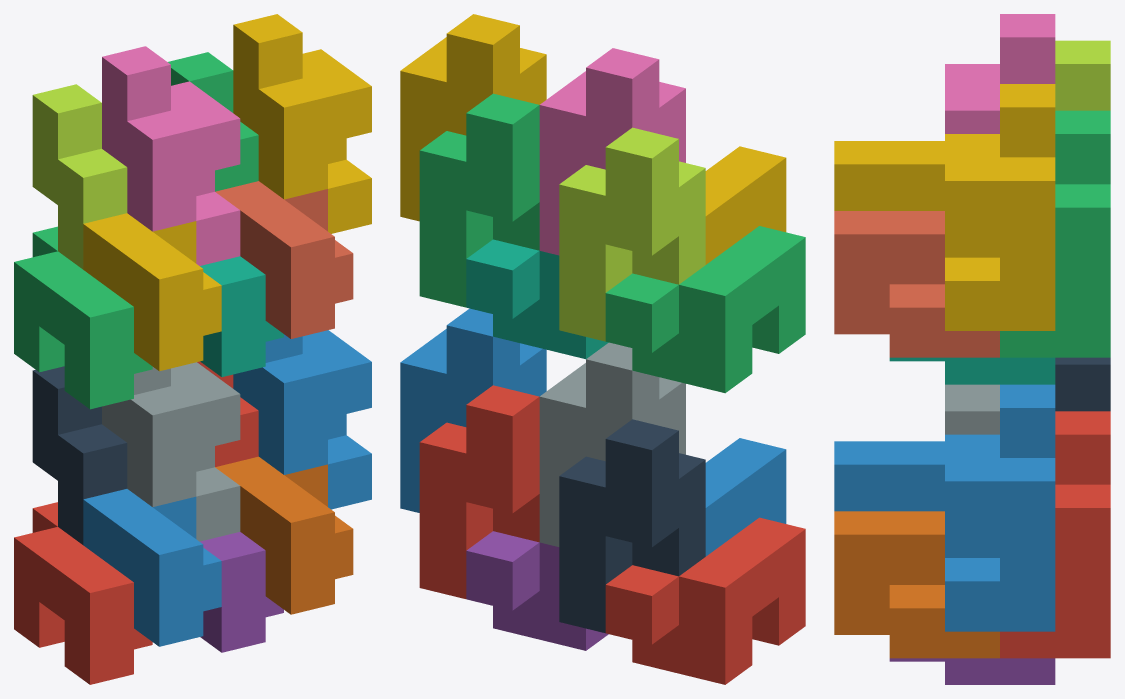
File: tiling.obj
The picture shows the model from 3 angles, left to right: view 1: azimuth 30°, elevation 25°; view 2: azimuth 150°, elevation 25°; view 3: azimuth 270°, elevation 25°; orthographic projection. The views are drawn at different scales.
Visible parts, largest first — view 1: copy_2_domain_8, copy_2_domain_4, copy_2_domain_2, copy_2_domain_6, copy_1_domain_1, copy_1_domain_3, copy_1_domain_2, copy_1_domain_4, copy_1_domain_6, copy_1_domain_8, copy_2_domain_3, copy_2_domain_1 (+4 smaller); view 2: copy_1_domain_1, copy_1_domain_3, copy_2_domain_3, copy_2_domain_1, copy_2_domain_5, copy_2_domain_7, copy_2_domain_4, copy_2_domain_8, copy_2_domain_2, copy_2_domain_6, copy_1_domain_5, copy_1_domain_7 (+2 smaller); view 3: copy_2_domain_6, copy_2_domain_8, copy_1_domain_6, copy_1_domain_8, copy_2_domain_5, copy_2_domain_7, copy_1_domain_2, copy_1_domain_4, copy_2_domain_4, copy_2_domain_3, copy_1_domain_7, copy_1_domain_5 (+2 smaller).
Part boxes in pixels (bbox=[...]): copy_2_domain_8: bbox=[233, 14, 371, 233]; copy_2_domain_4: bbox=[102, 46, 240, 265]; copy_2_domain_2: bbox=[102, 362, 240, 541]; copy_2_domain_6: bbox=[233, 330, 371, 509]; copy_1_domain_1: bbox=[14, 502, 152, 684]; copy_1_domain_3: bbox=[14, 226, 152, 409]; copy_1_domain_2: bbox=[83, 489, 221, 646]; copy_1_domain_4: bbox=[83, 213, 221, 371]; copy_1_domain_6: bbox=[215, 456, 353, 614]; copy_1_domain_8: bbox=[215, 181, 353, 338]; copy_2_domain_3: bbox=[32, 84, 127, 269]; copy_2_domain_1: bbox=[32, 366, 127, 544]; copy_1_domain_1: bbox=[605, 517, 805, 684]; copy_1_domain_3: bbox=[605, 226, 805, 393]; copy_2_domain_3: bbox=[559, 127, 705, 341]; copy_2_domain_1: bbox=[559, 419, 705, 633]; copy_2_domain_5: bbox=[419, 385, 539, 598]; copy_2_domain_7: bbox=[419, 93, 539, 307]; copy_2_domain_4: bbox=[539, 48, 685, 255]; copy_2_domain_8: bbox=[400, 14, 546, 221]; copy_2_domain_2: bbox=[539, 342, 685, 546]; copy_2_domain_6: bbox=[400, 308, 546, 512]; copy_1_domain_5: bbox=[466, 531, 608, 650]; copy_1_domain_7: bbox=[466, 239, 608, 359]; copy_2_domain_6: bbox=[945, 384, 1055, 631]; copy_2_domain_8: bbox=[945, 84, 1055, 330]; copy_1_domain_6: bbox=[834, 511, 999, 658]; copy_1_domain_8: bbox=[834, 211, 999, 357]; copy_2_domain_5: bbox=[1000, 411, 1110, 658]; copy_2_domain_7: bbox=[1000, 110, 1110, 357]; copy_1_domain_2: bbox=[834, 441, 944, 511]; copy_1_domain_4: bbox=[834, 141, 944, 210]; copy_2_domain_4: bbox=[945, 14, 1055, 133]; copy_2_domain_3: bbox=[1055, 40, 1110, 110]; copy_1_domain_7: bbox=[889, 357, 1055, 384]; copy_1_domain_5: bbox=[889, 658, 1055, 684].
Bounding box in the file's own units: 7 × 12 × 5.
